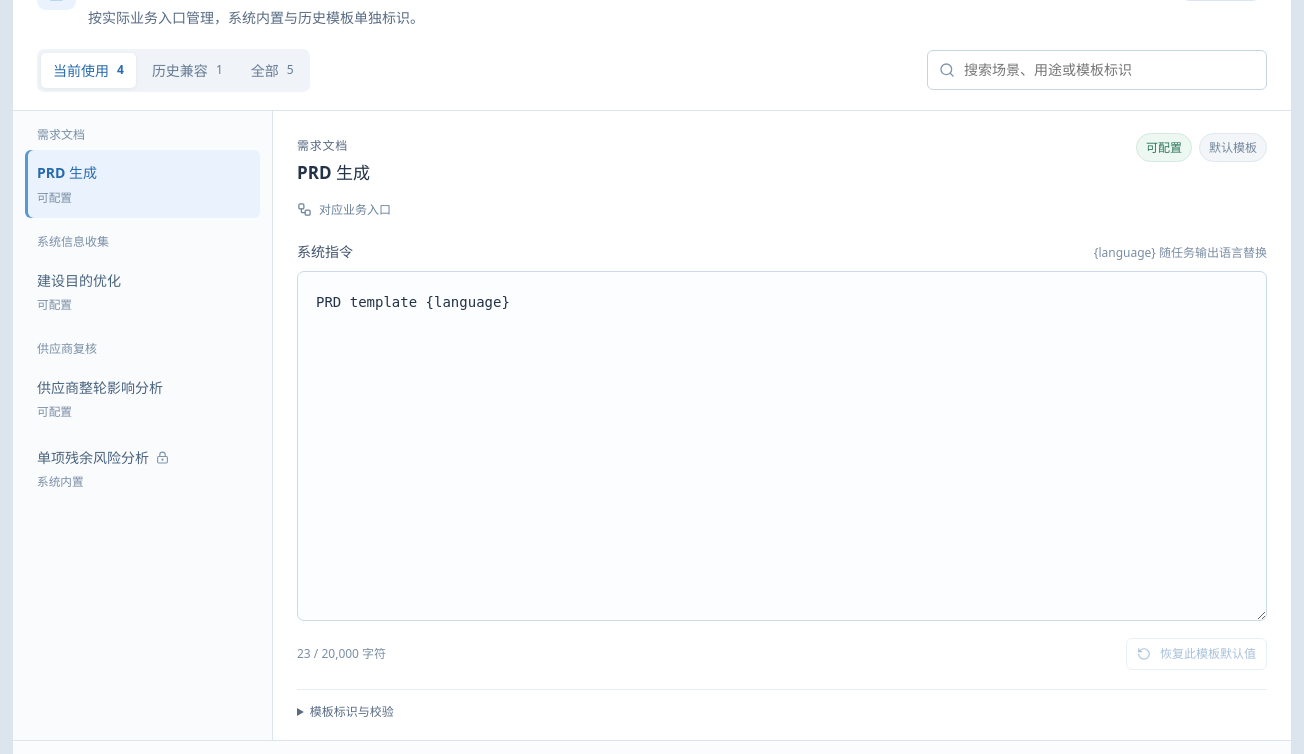
validates budgets and empty prompts and restores defaults without writing
(page scrolled)
Clear the text box named "PRD 生成": coordinates (782, 446) left=297, top=271, right=1267, bottom=621
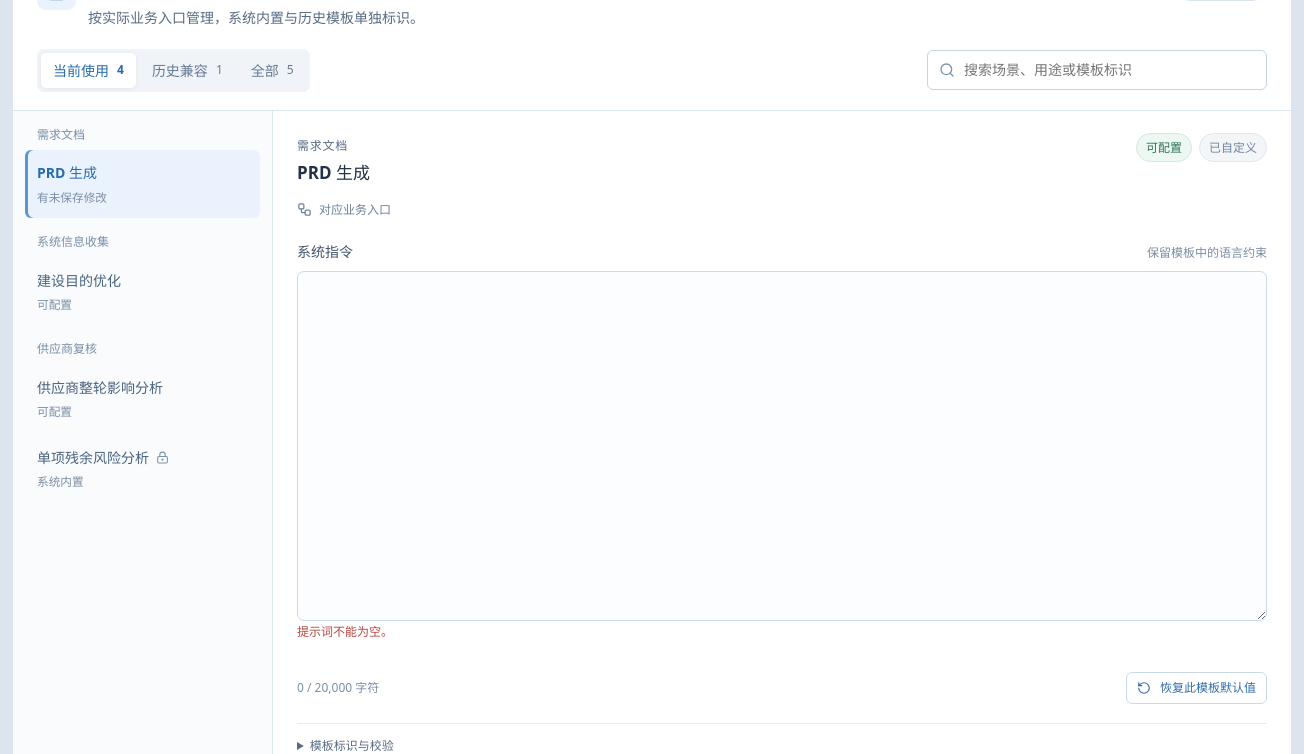
Expected: the text "提示词不能为空。" is shown, left=297, top=623, right=393, bottom=640
Click the button "恢复此模板默认值": coordinates (1196, 688) left=1126, top=672, right=1267, bottom=704
(page scrolled)
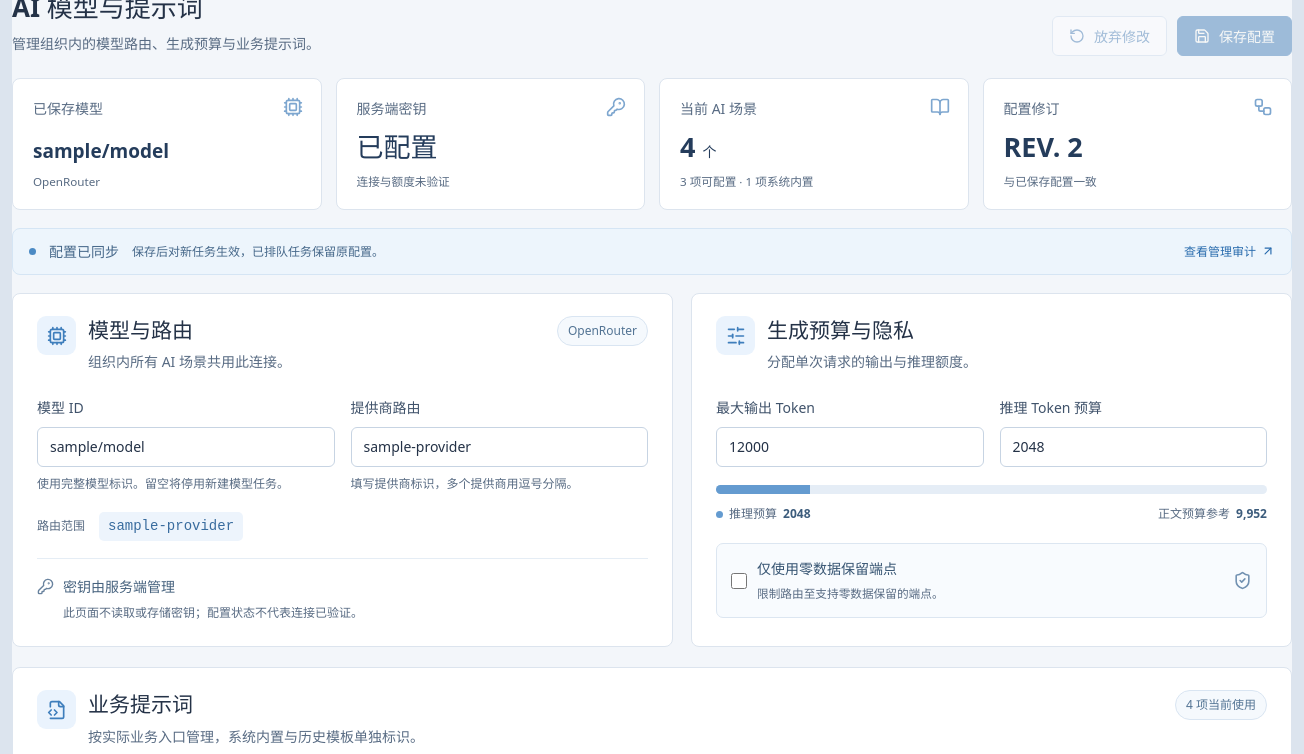
Replace the text in the number field labelled "推理 Token 预算" with "12000": coordinates (1133, 447) left=1000, top=427, right=1267, bottom=467
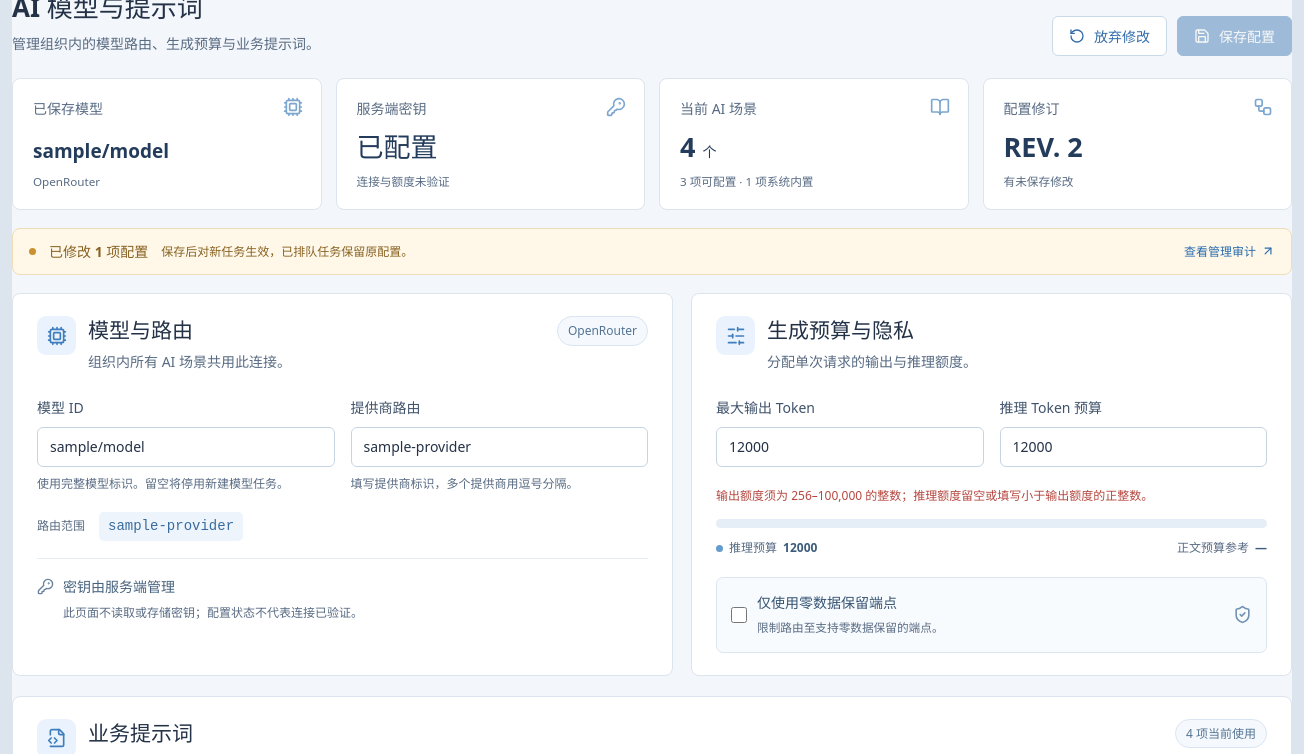
Expected: the button "保存配置" is disabled, left=1177, top=16, right=1292, bottom=56
Expected: the message "输出额度须为 256–100,000 的整数；推理额度留空或填写小于输出额度的正整数。" is shown, left=716, top=487, right=1153, bottom=504
Replace the text in the number field labelled "推理 Token 预算" with "1024": coordinates (1133, 447) left=1000, top=427, right=1267, bottom=467
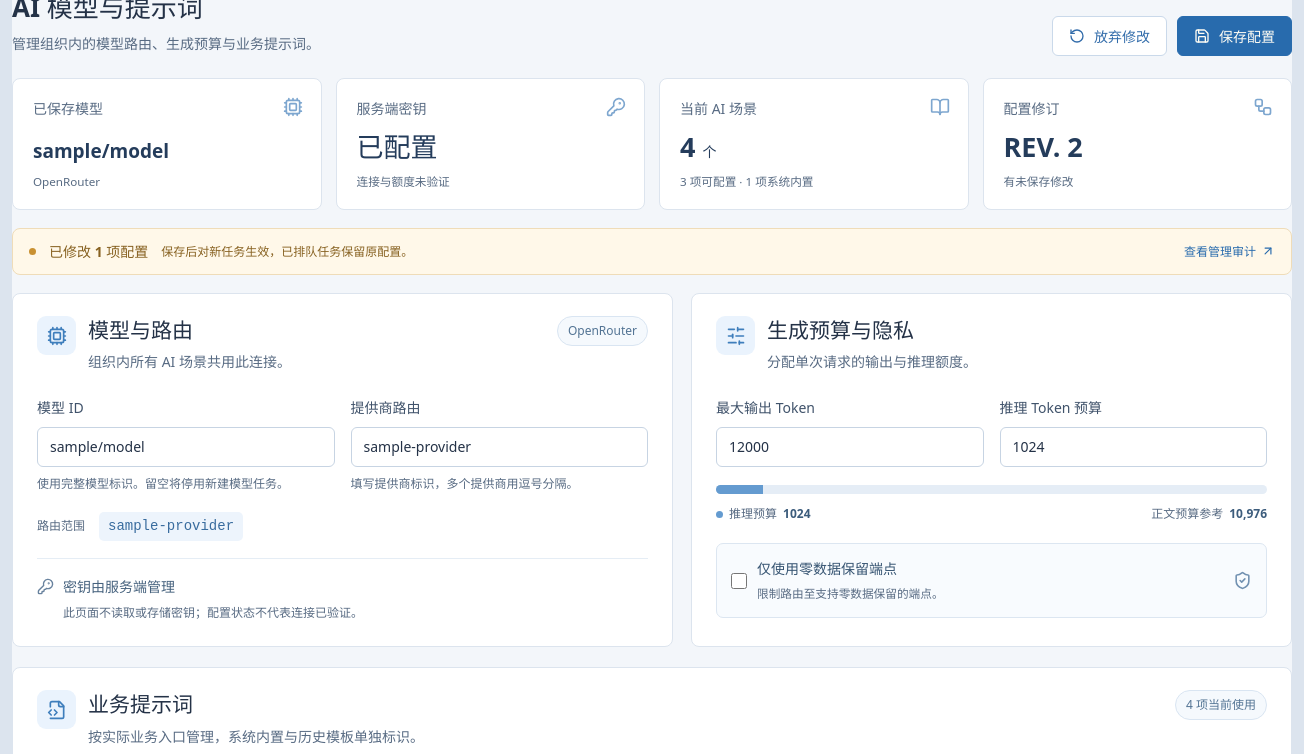
Expected: the button "保存配置" is enabled, left=1177, top=16, right=1292, bottom=56
Click the button "放弃修改": coordinates (1110, 36) left=1052, top=16, right=1167, bottom=56
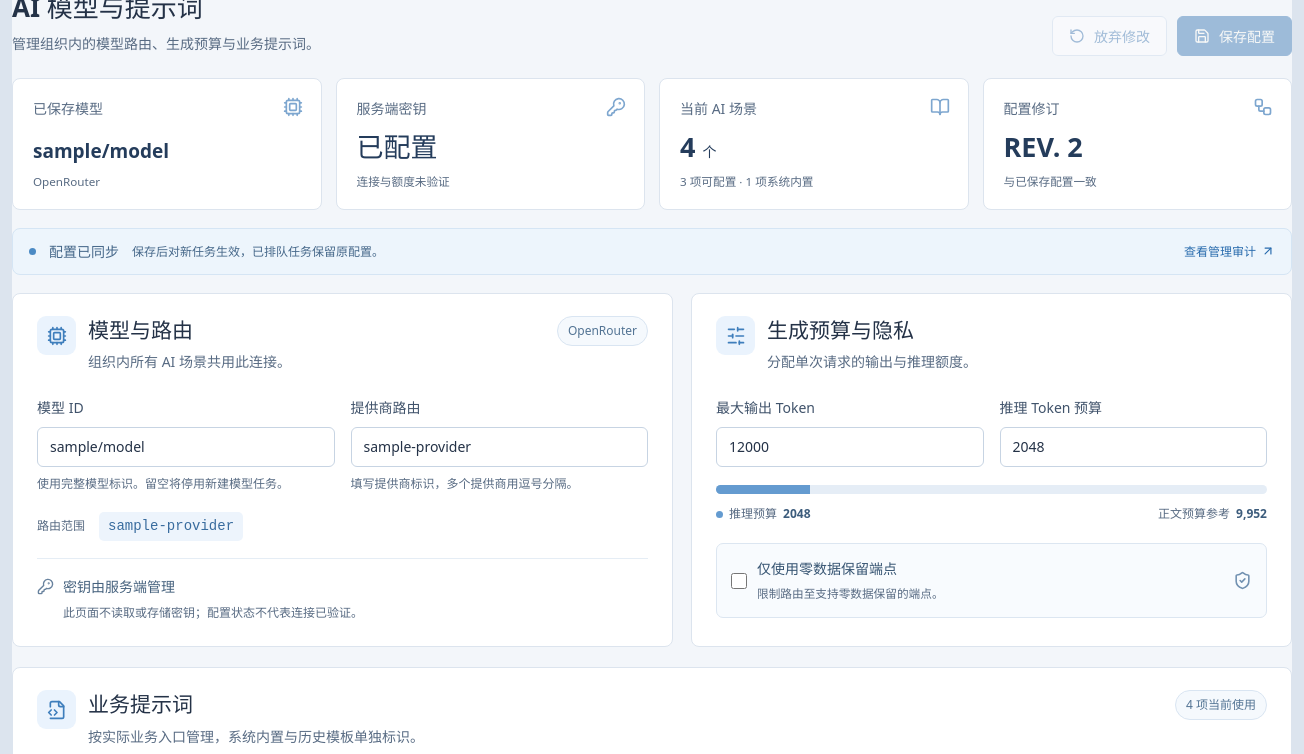
Expected: the number field labelled "推理 Token 预算" holds "2048", left=1000, top=427, right=1267, bottom=467
Expected: the button "保存配置" is disabled, left=1177, top=16, right=1292, bottom=56
